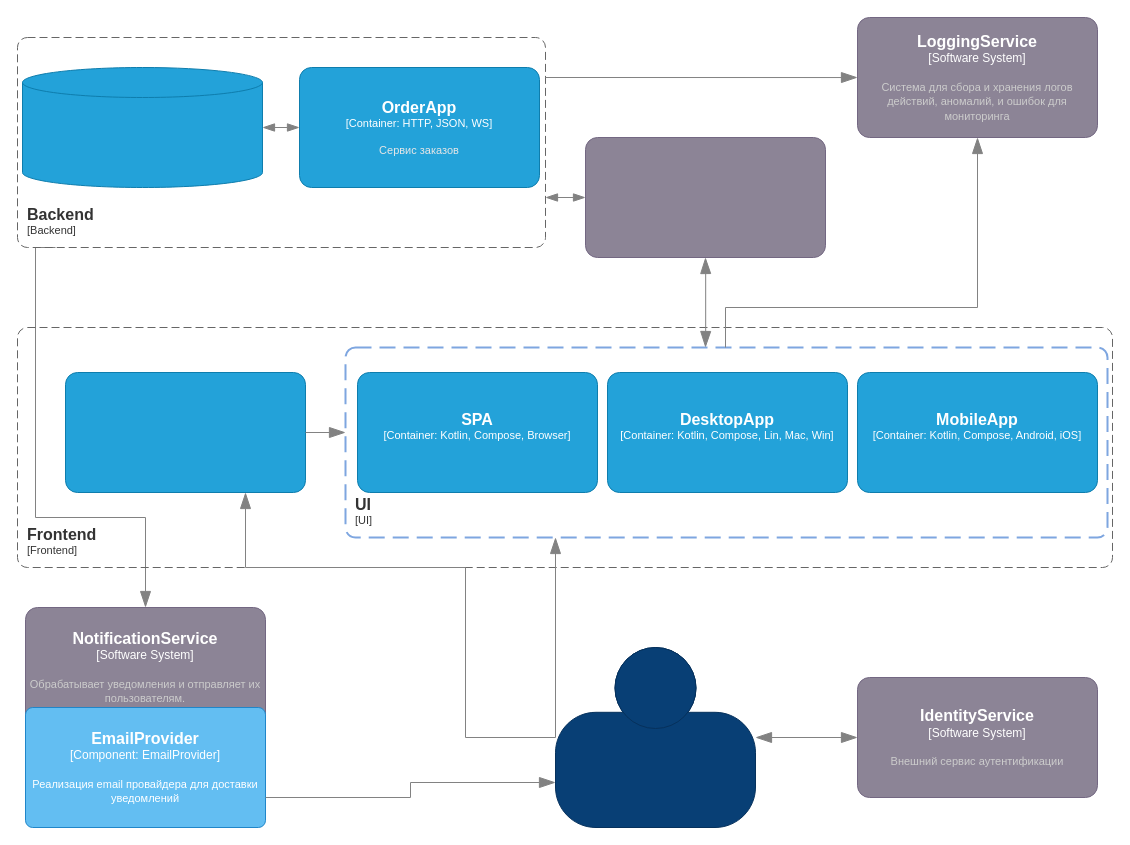
This 1130x845 diagram has some shape labels left out. The centre of each missing label's shape, as x and y in pixels:
API Gateway [Software System]: the point at 705,197
Database [DB: SQL, NewSQL, NoSQL]: the point at 142,127
WebServer [Container: Nginx]: the point at 185,432
Пользователь [User] Заказчик или Исполнитель: the point at 655,737
